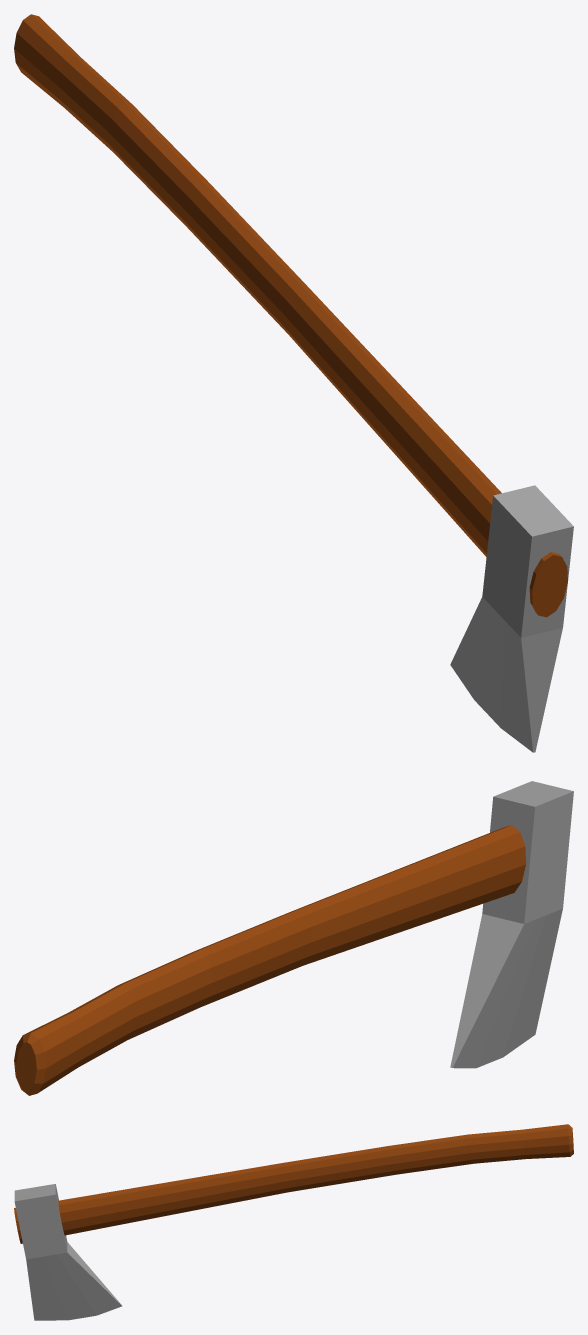
File: ChoppingAxe.fbx
3 renders of one model, top to bottom at view 1: azimuth 30°, elevation 25°; view 2: azimuth 150°, elevation 25°; view 3: azimuth 270°, elevation 25°, orthographic. The views are drawn at different scales.
Parts seen in each view (by area): view 1: Cylinder.321; view 2: Cylinder.321; view 3: Cylinder.321.
Boxes of the visible parts, left/top/right/bottom form: Cylinder.321: left=14, top=14, right=573, bottom=752; Cylinder.321: left=14, top=781, right=573, bottom=1095; Cylinder.321: left=14, top=1124, right=573, bottom=1320.
Bounding box in the file's own units: 13.6 × 115 × 296.
